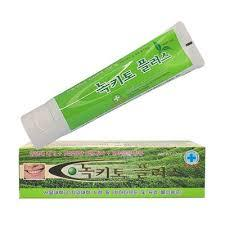toothpaste: (6, 18, 208, 152)
